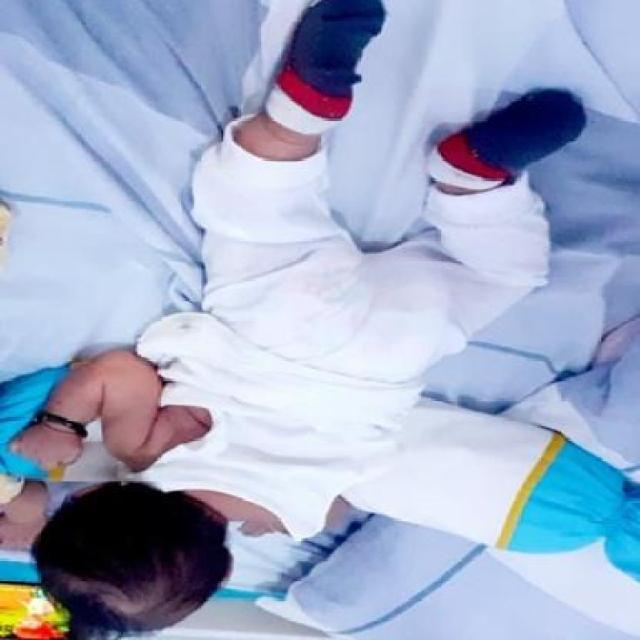baby: (4, 0, 596, 634)
